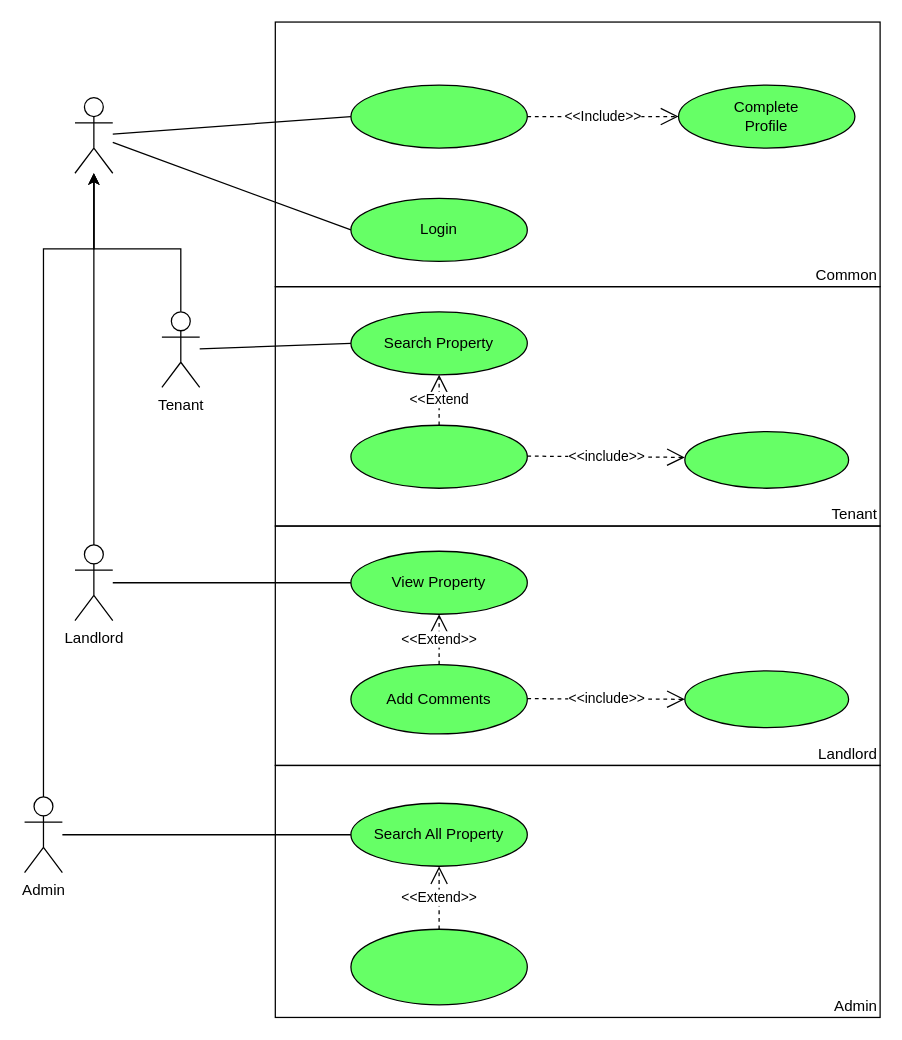
Image size: 902x1040. Some labels were removed from this diagram. Here are the shapes that lost their labels. From the top down, the centre of each, then its label:
(93,134): User
(438,116): Register
(438,456): Property Review
(766,459): Sanity check
(766,699): Profanity check
(438,966): Moderates Comments and Reviews
